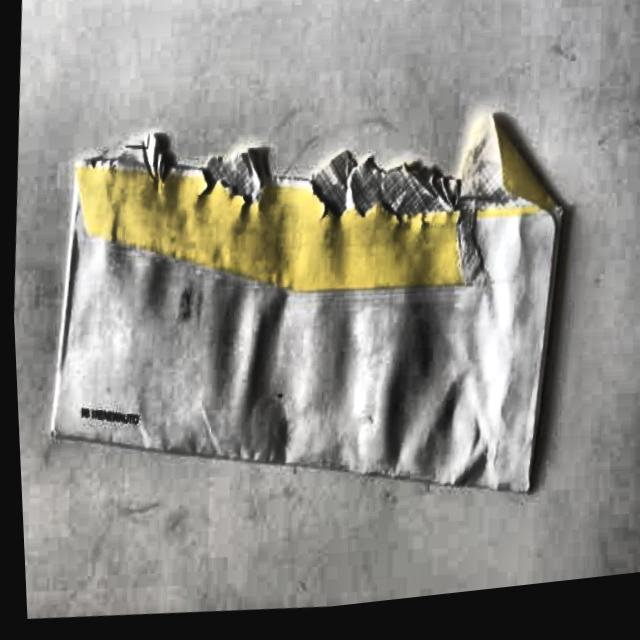Paper: (16, 69, 587, 558)
